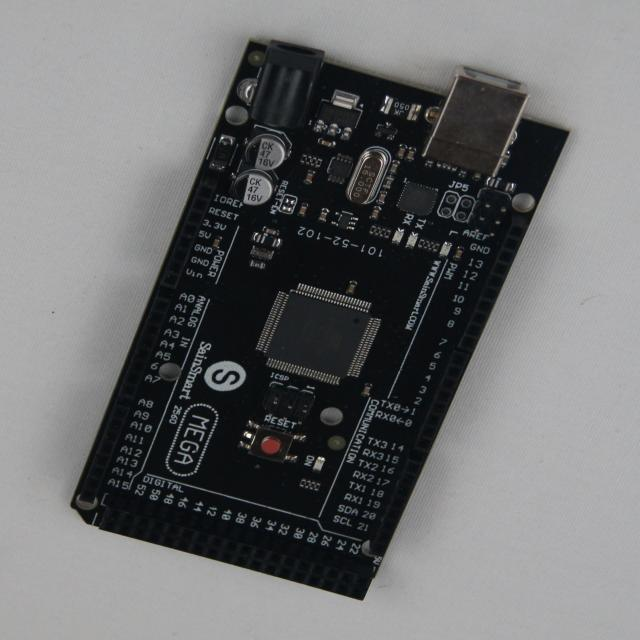Arduino Mega 2560 -Black-: (72, 42, 568, 599)
